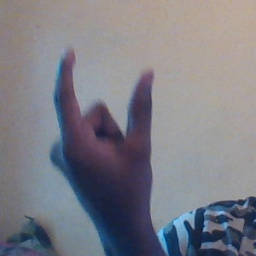U: (35, 44, 165, 199)
